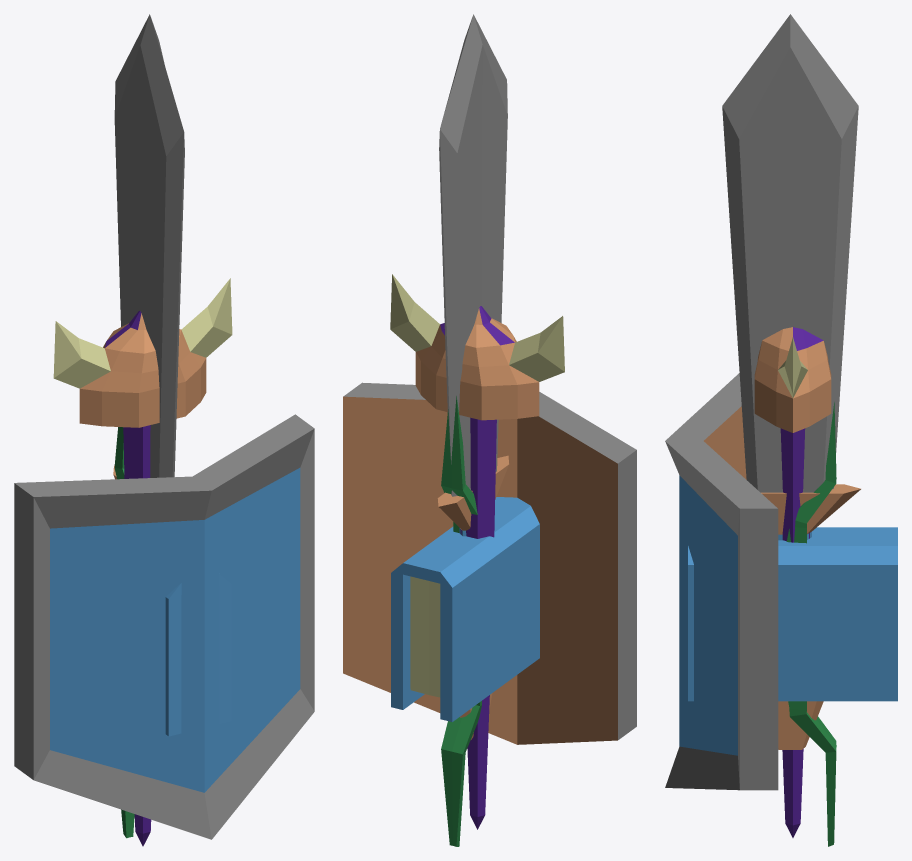
The model's file is WeaponExamples.fbx.
3 renders of one model, left to right at view 1: azimuth 30°, elevation 25°; view 2: azimuth 150°, elevation 25°; view 3: azimuth 270°, elevation 25°, orthographic. The views are drawn at different scales.
Parts seen in each view (by area): view 1: Shield, LongSword, Staff, Book, Bow; view 2: Shield, Book, LongSword, Staff, Bow; view 3: LongSword, Shield, Book, Staff, Bow.
Boxes of the visible parts, <box> form: Shield: <box>14,414,314,839</box>; LongSword: <box>113,14,184,479</box>; Staff: <box>53,278,232,846</box>; Book: <box>165,574,231,736</box>; Bow: <box>114,427,134,838</box>; Shield: <box>343,382,636,744</box>; Book: <box>391,497,539,721</box>; LongSword: <box>437,14,508,739</box>; Staff: <box>390,274,564,829</box>; Bow: <box>441,396,481,846</box>; LongSword: <box>722,14,860,749</box>; Shield: <box>665,373,778,790</box>; Book: <box>688,527,897,701</box>; Staff: <box>754,327,831,837</box>; Bow: <box>786,402,836,846</box>.
Size of the model in its own units: 0.73 by 2.08 by 0.527.
